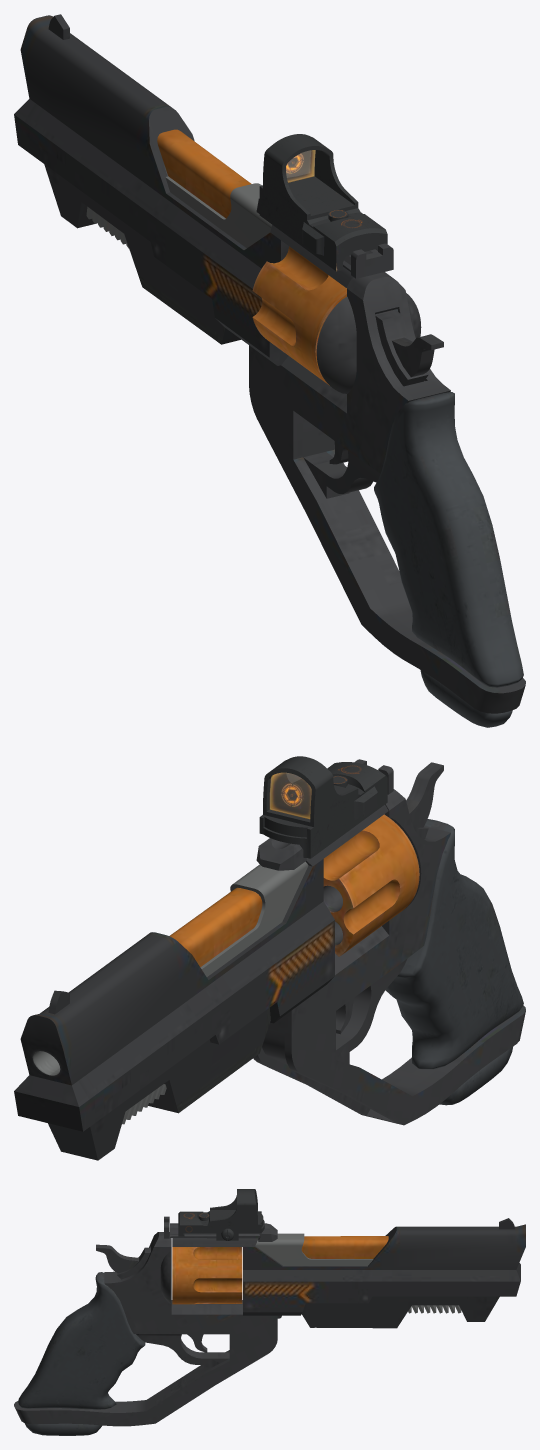
The model's file is gun_hand.glb.
3 renders of one model, top to bottom at view 1: azimuth 30°, elevation 25°; view 2: azimuth 150°, elevation 25°; view 3: azimuth 270°, elevation 25°, orthographic. The views are drawn at different scales.
Visible parts, largest first — view 1: Object_20, Object_12, Object_6, Object_18, Object_10, Object_14, Object_22; view 2: Object_20, Object_12, Object_6, Object_18, Object_10, Object_22, Object_14, Object_16; view 3: Object_20, Object_12, Object_18, Object_10, Object_6, Object_14, Object_22, Object_16.
Part boxes in pixels (box(x1,y1,x2,y2)): Object_20: box(14, 14, 525, 713); Object_12: box(374, 392, 523, 727); Object_6: box(259, 134, 387, 271); Object_18: box(252, 246, 346, 385); Object_10: box(157, 129, 271, 248); Object_14: box(375, 310, 443, 386); Object_22: box(256, 198, 393, 278); Object_20: box(14, 789, 525, 1160); Object_12: box(385, 819, 523, 1105); Object_6: box(259, 756, 387, 858); Object_18: box(323, 814, 419, 956); Object_10: box(169, 861, 308, 976); Object_22: box(256, 759, 393, 870); Object_14: box(406, 762, 443, 839); Object_16: box(122, 1084, 166, 1124); Object_20: box(14, 1218, 525, 1426); Object_12: box(18, 1272, 145, 1435); Object_18: box(172, 1247, 242, 1304); Object_10: box(255, 1233, 388, 1265); Object_6: box(178, 1189, 264, 1240); Object_14: box(96, 1244, 150, 1279); Object_22: box(164, 1216, 277, 1241); Object_16: box(408, 1305, 461, 1313).
Bounding box in the file's own units: 0.0704 × 0.2877 × 0.55.
Materials: 3 (3 with a texture image).
